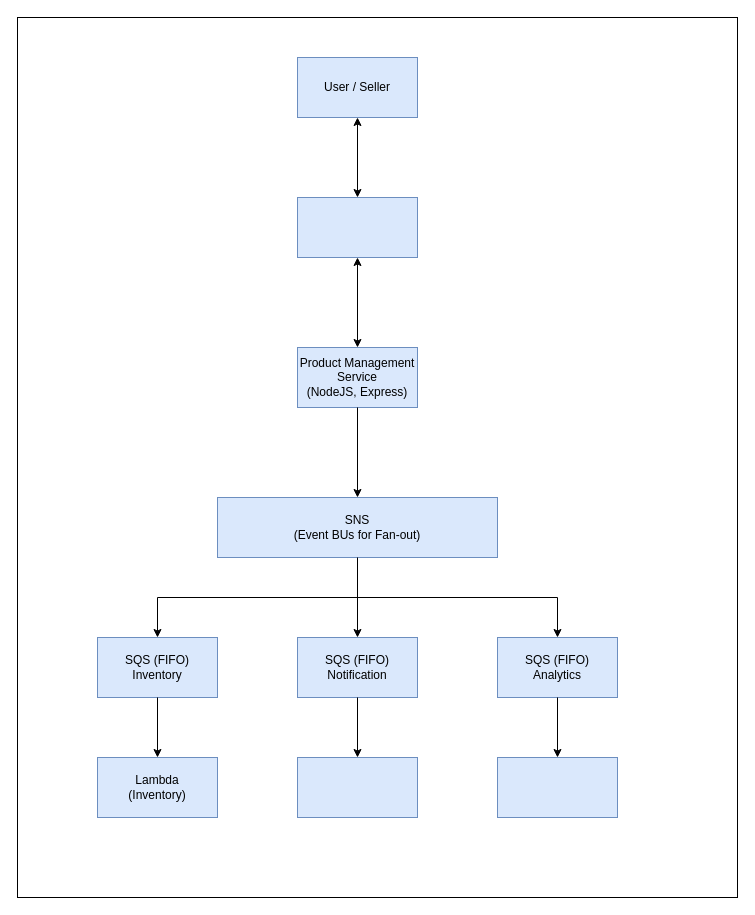
Some shapes in this 755 by 915 pixel diagram are drawn without their labels. The centre of each missing label's shape, as x and y in pixels:
Analytics Service: point 557,787
API Gateway: point 357,227
Lambda (Emails): point 357,787
